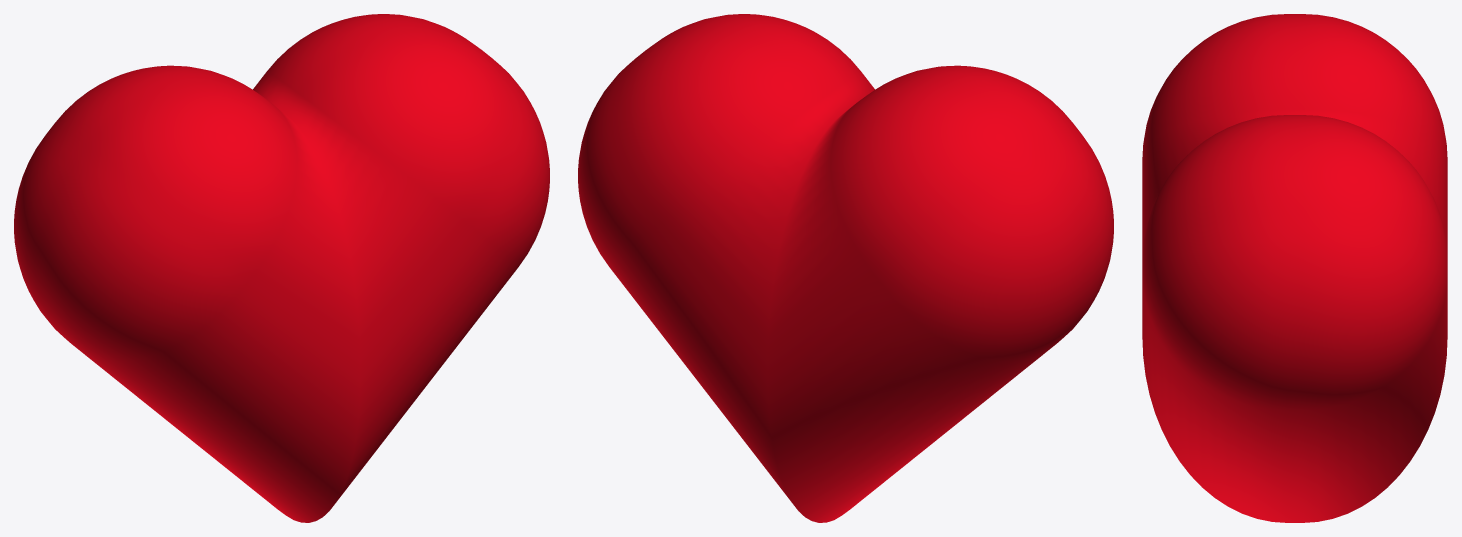
Rendered from heart.fbx.
3 renders of one model, left to right at view 1: azimuth 30°, elevation 25°; view 2: azimuth 150°, elevation 25°; view 3: azimuth 270°, elevation 25°, orthographic. The views are drawn at different scales.
Parts seen in each view (by area): view 1: Cube; view 2: Cube; view 3: Cube.
Part boxes in pixels (x1,y1,x2,y2): Cube: [14, 14, 549, 522]; Cube: [578, 14, 1113, 522]; Cube: [1142, 14, 1447, 522].
Size of the model in its own units: 360 by 322 by 200.
